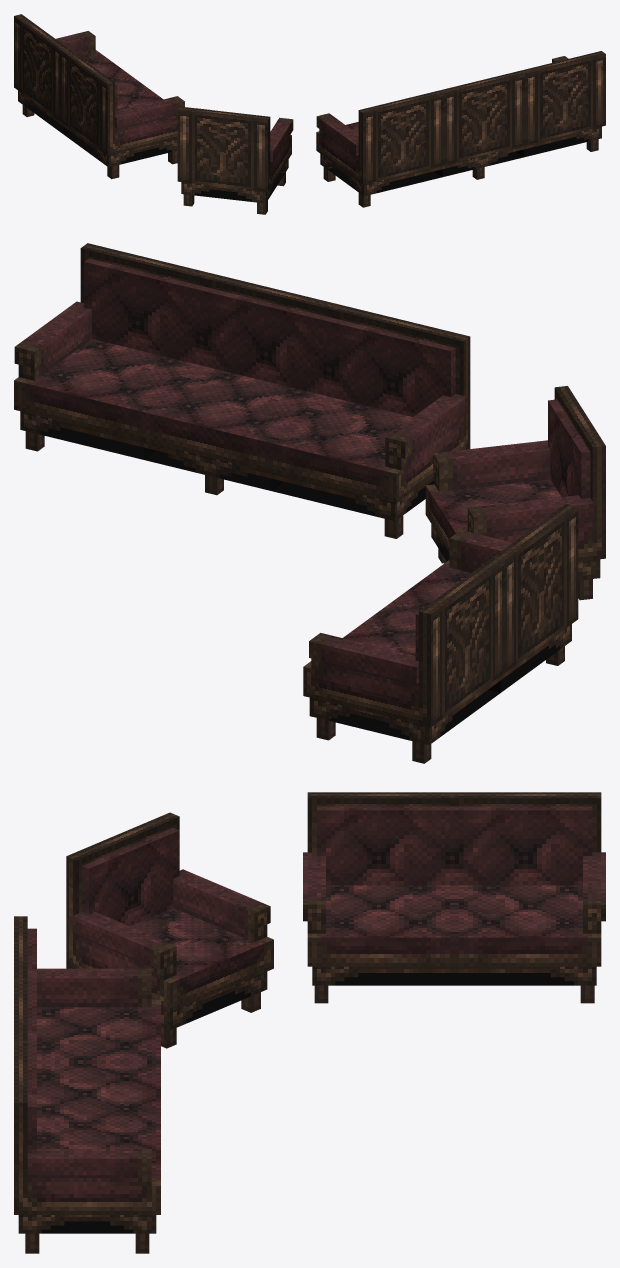
Rendered from antique-sofa.obj.
3 renders of one model, top to bottom at view 1: azimuth 30°, elevation 25°; view 2: azimuth 150°, elevation 25°; view 3: azimuth 270°, elevation 25°, orthographic. The views are drawn at different scales.
Parts seen in each view (by area): view 1: obj305, obj143, obj245, obj191, obj32, obj86, obj41, obj93, obj146, obj39, obj269, obj11 (+26 smaller); view 2: obj186, obj32, obj86, obj240, obj195, obj138, obj249, obj147, obj198, obj252, obj150, obj96 (+45 smaller); view 3: obj79, obj25, obj195, obj39, obj93, obj147, obj300, obj37, obj91, obj309, obj247, obj249 (+39 smaller).
Part boxes in pixels (x1=…): obj305: x1=177, y1=110, x2=267, y2=191; obj143: x1=363, y1=93, x2=443, y2=184; obj245: x1=525, y1=54, x2=605, y2=145; obj191: x1=444, y1=74, x2=524, y2=164; obj32: x1=60, y1=50, x2=107, y2=155; obj86: x1=14, y1=16, x2=60, y2=121; obj41: x1=115, y1=120, x2=177, y2=153; obj93: x1=82, y1=50, x2=141, y2=89; obj146: x1=316, y1=132, x2=358, y2=181; obj39: x1=117, y1=83, x2=163, y2=110; obj269: x1=181, y1=182, x2=265, y2=203; obj11: x1=116, y1=101, x2=184, y2=128; obj186: x1=211, y1=293, x2=323, y2=394; obj32: x1=504, y1=507, x2=578, y2=672; obj86: x1=431, y1=561, x2=504, y2=726; obj240: x1=84, y1=262, x2=195, y2=363; obj195: x1=142, y1=366, x2=330, y2=442; obj138: x1=339, y1=324, x2=450, y2=416; obj249: x1=14, y1=339, x2=203, y2=411; obj147: x1=269, y1=397, x2=412, y2=473; obj198: x1=141, y1=412, x2=269, y2=471; obj252: x1=14, y1=380, x2=141, y2=440; obj150: x1=269, y1=443, x2=396, y2=502; obj96: x1=303, y1=667, x2=418, y2=723; obj79: x1=463, y1=810, x2=592, y2=885; obj25: x1=317, y1=810, x2=445, y2=885; obj195: x1=37, y1=1061, x2=160, y2=1123; obj39: x1=307, y1=885, x2=454, y2=937; obj93: x1=454, y1=885, x2=601, y2=937; obj147: x1=37, y1=999, x2=160, y2=1061; obj300: x1=89, y1=830, x2=179, y2=926; obj37: x1=307, y1=937, x2=454, y2=966; obj91: x1=454, y1=937, x2=601, y2=966; obj309: x1=130, y1=908, x2=273, y2=983; obj247: x1=27, y1=1186, x2=160, y2=1214; obj249: x1=37, y1=1123, x2=160, y2=1185.
Bounding box in the file's own units: 80.5 × 18.5 × 64.5.
6 materials, 6 textured.
